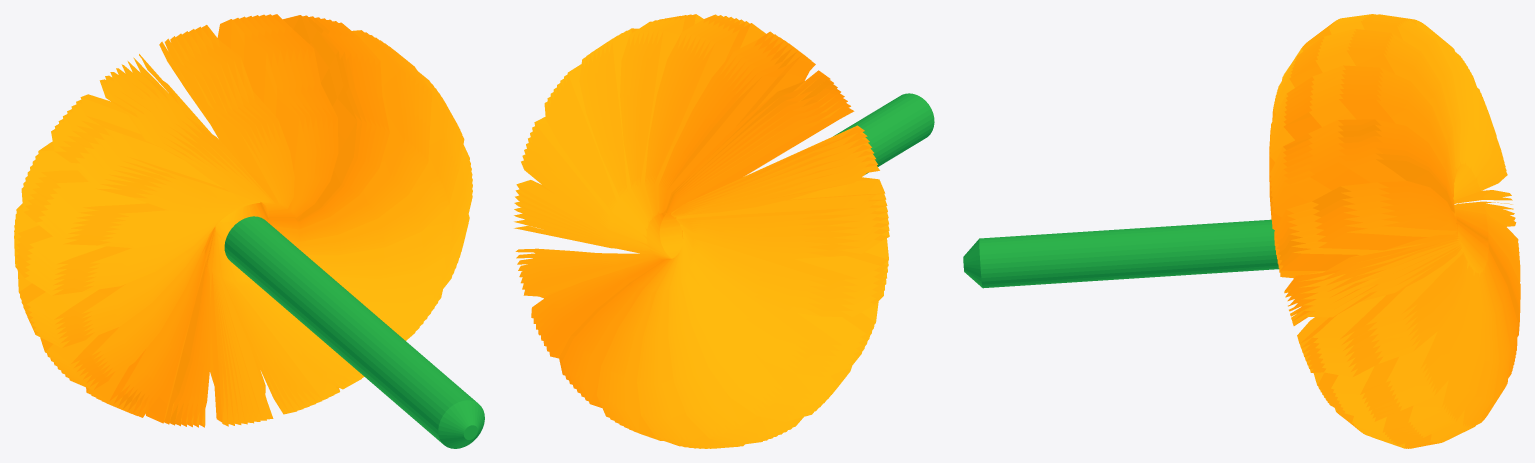
Rendered from flor1.fbx.
3 renders of one model, left to right at view 1: azimuth 30°, elevation 25°; view 2: azimuth 150°, elevation 25°; view 3: azimuth 270°, elevation 25°, orthographic. The views are drawn at different scales.
Visible parts, largest first — view 1: Círculo, Cilindro; view 2: Círculo, Cilindro; view 3: Círculo, Cilindro.
Part boxes in pixels (x1,y1,x2,y2): Círculo: [14, 14, 472, 427]; Cilindro: [224, 216, 484, 448]; Círculo: [514, 14, 889, 448]; Cilindro: [833, 93, 934, 174]; Círculo: [1269, 14, 1520, 448]; Cilindro: [963, 219, 1279, 288].
Size of the model in its own units: 759 by 751 by 976.
